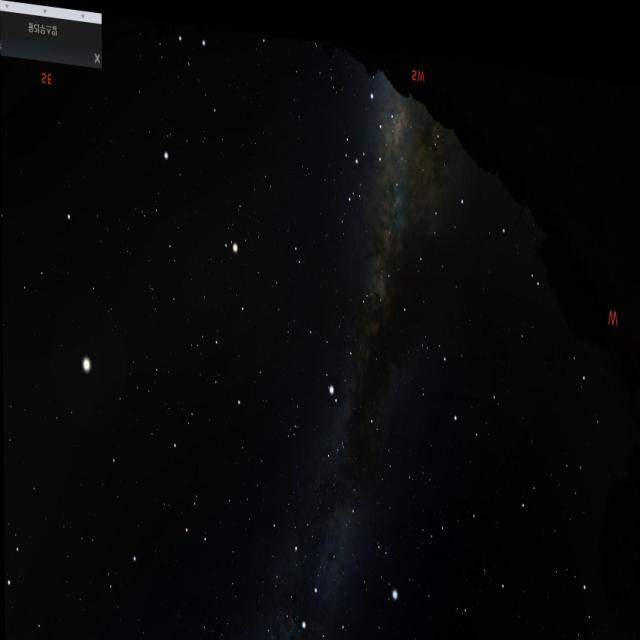aquila: (311, 268, 379, 406)
cygnus: (283, 485, 351, 640)
lyra: (356, 512, 407, 624)
sagittarius: (346, 69, 397, 171)
